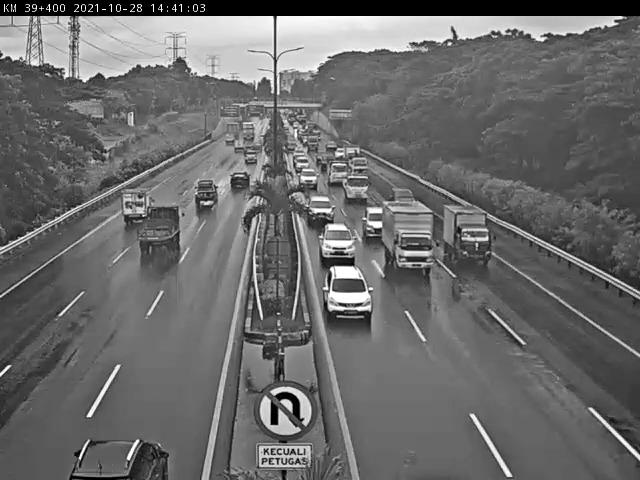car: (323, 265, 372, 322), (318, 222, 357, 261), (305, 195, 335, 227), (192, 177, 219, 207), (363, 206, 385, 242)
mid truck: (381, 201, 434, 274), (136, 203, 183, 251)
small truck: (443, 204, 495, 270), (119, 187, 154, 224)
